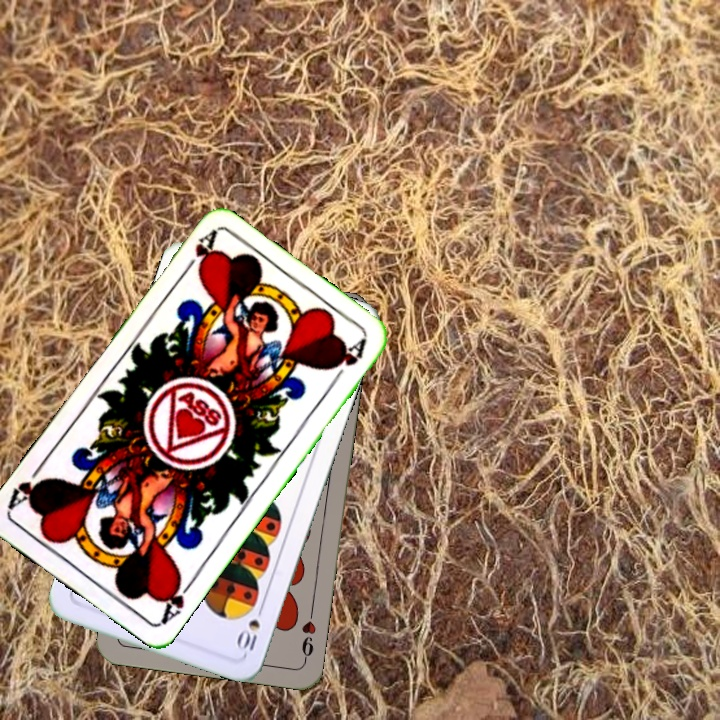H9: (297, 605, 319, 664)
HA: (157, 570, 199, 626), (176, 227, 219, 280)
S10: (234, 600, 267, 657)
